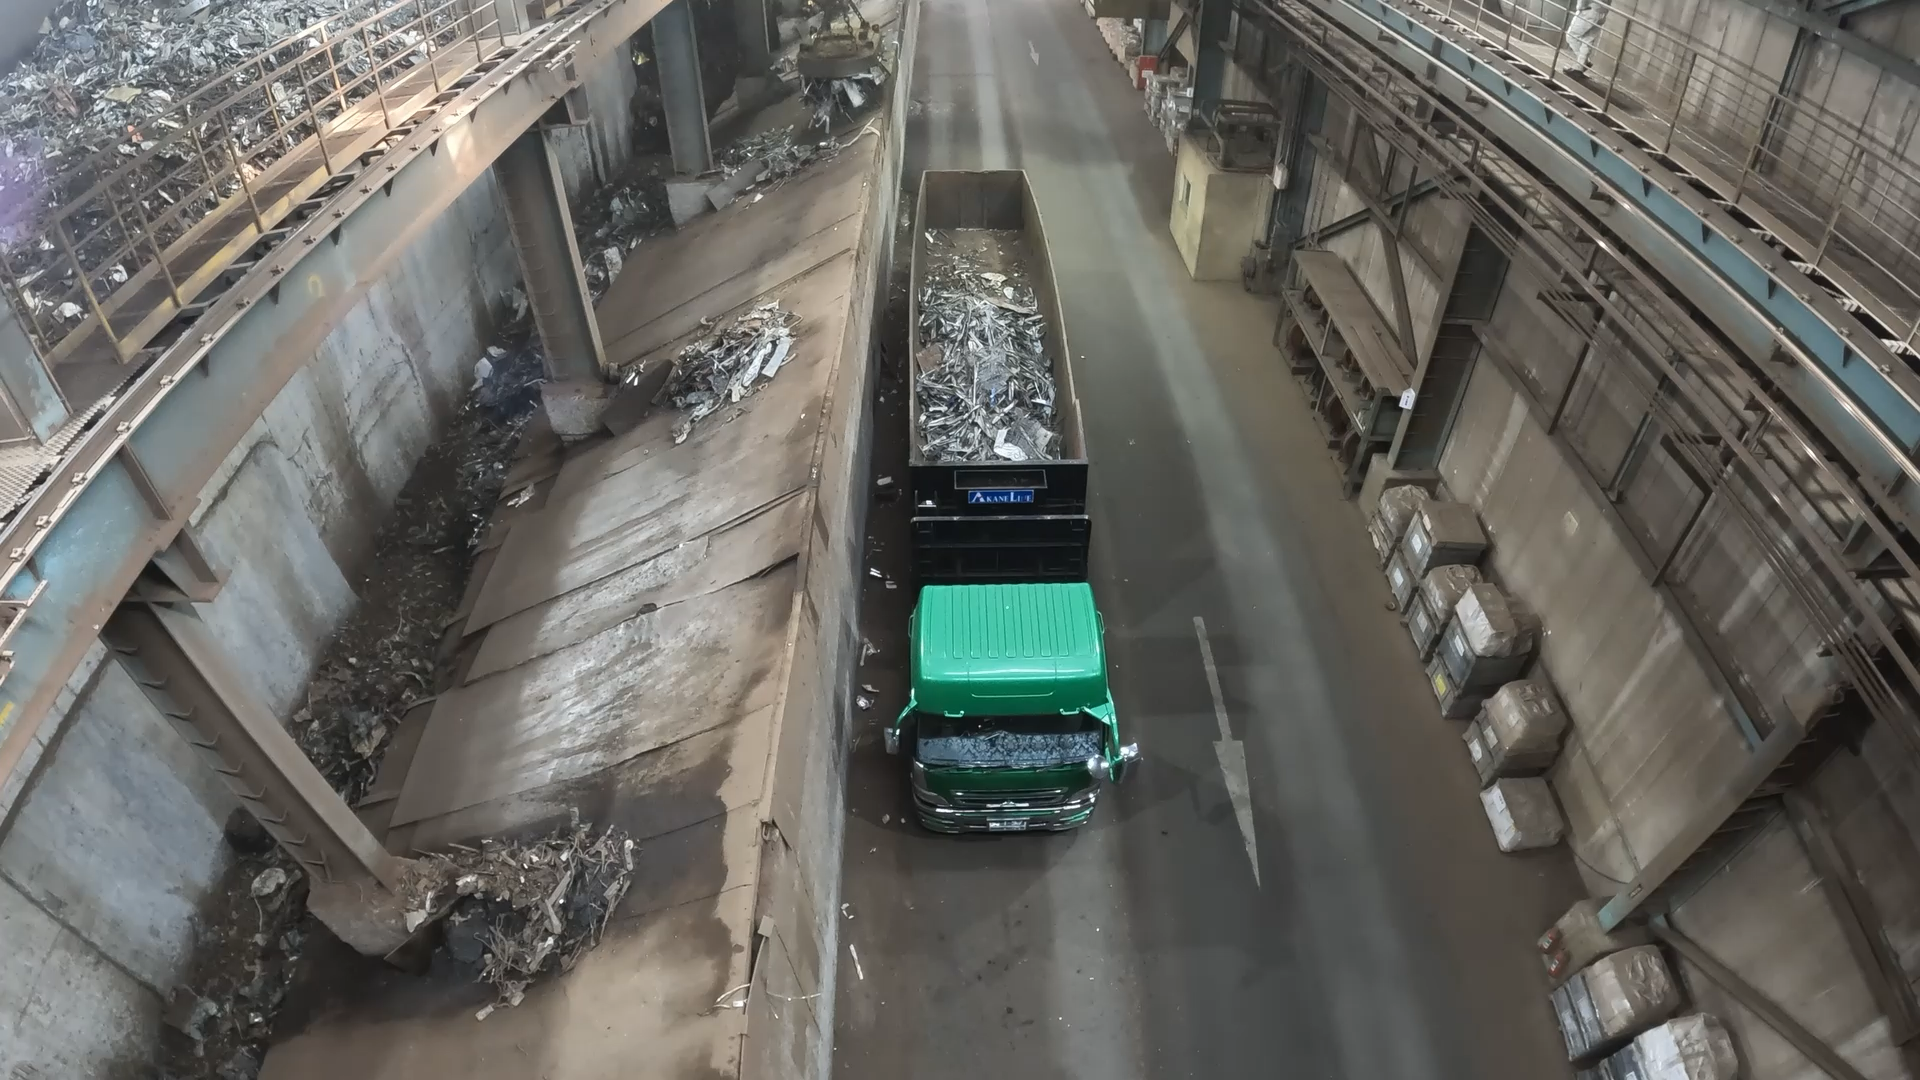truck: (910, 169, 1087, 465)
